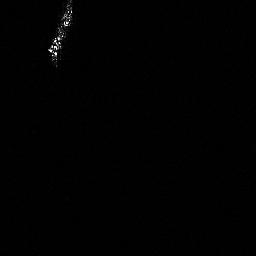ship: (45, 1, 74, 64)
